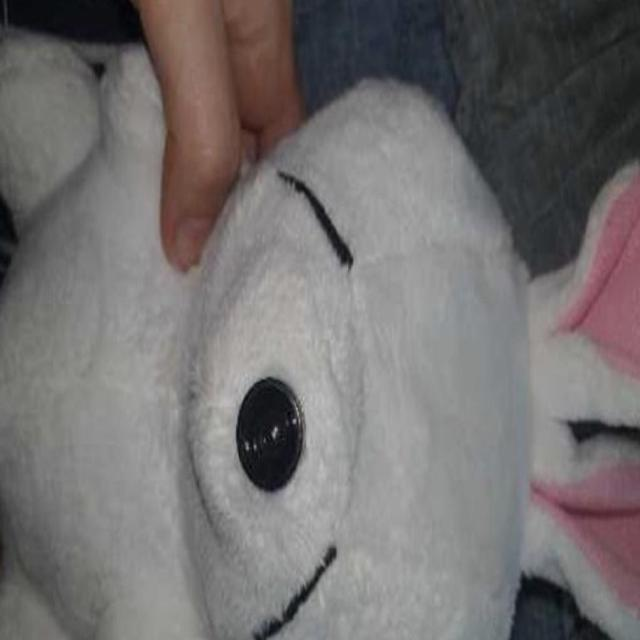hidden camera: (234, 380, 305, 493)
